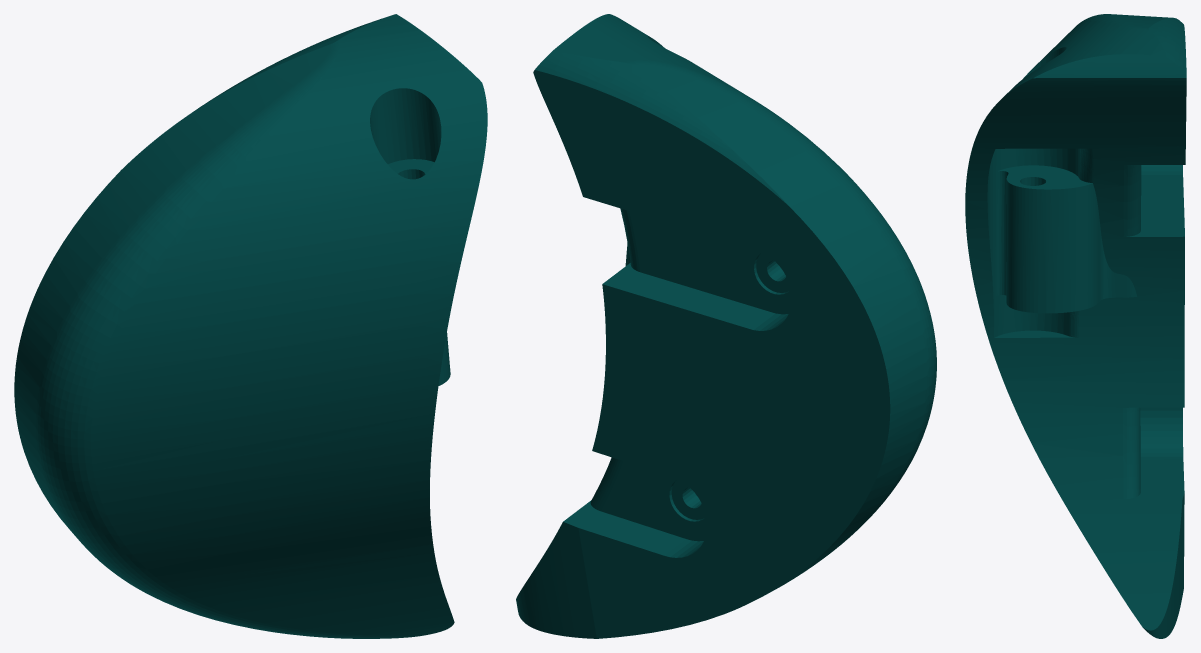
File: leg_left_toe_pitch_visuals.obj
3 views of the same model, side by side, from view 1: azimuth 30°, elevation 25°; view 2: azimuth 150°, elevation 25°; view 3: azimuth 270°, elevation 25° (orthographic). The views are drawn at different scales.
Size of the model in its own units: 0.0509 by 0.0716 by 0.0252.
